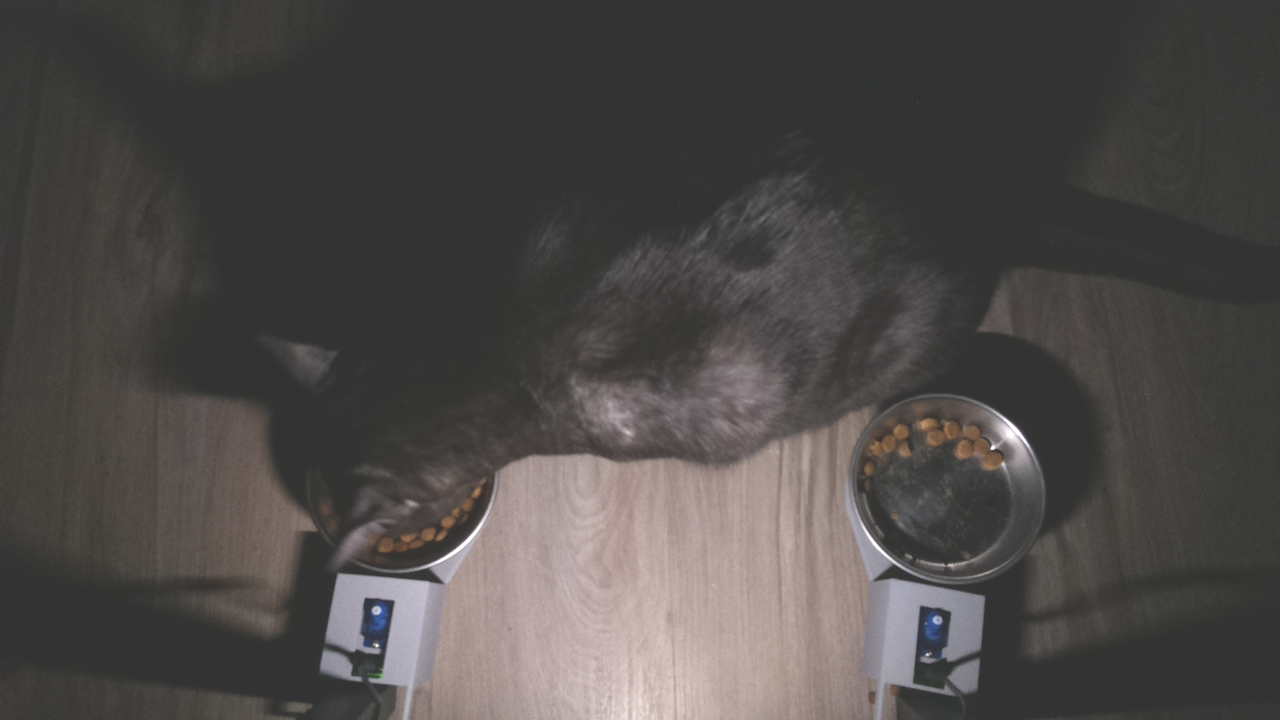open_bowl: (840, 389, 1062, 587)
saki_eating: (252, 309, 563, 580)
